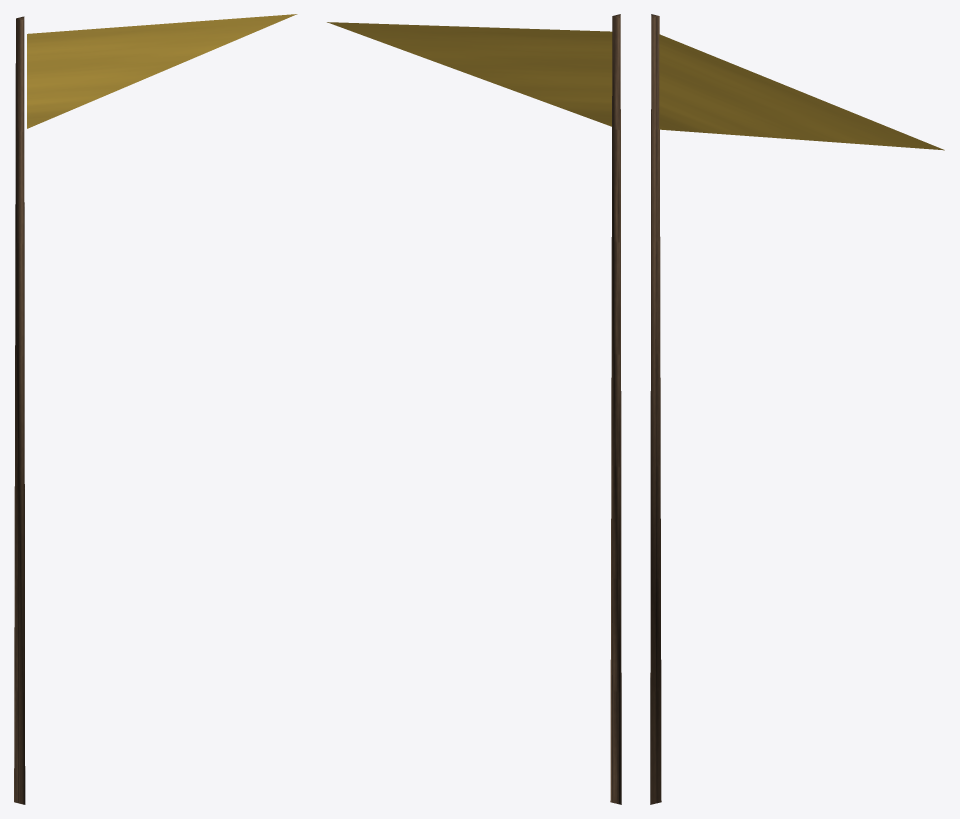
Rendered from Pennant_Pole_1_LOD2.gltf.
3 renders of one model, left to right at view 1: azimuth 30°, elevation 25°; view 2: azimuth 150°, elevation 25°; view 3: azimuth 330°, elevation 25°, orthographic.
Visible parts, largest first — view 1: Pennant_Pole_1_LOD2; view 2: Pennant_Pole_1_LOD2; view 3: Pennant_Pole_1_LOD2.
Boxes of the visible parts, <box> form: Pennant_Pole_1_LOD2: <box>14,14,297,804</box>; Pennant_Pole_1_LOD2: <box>327,14,621,804</box>; Pennant_Pole_1_LOD2: <box>650,14,944,804</box>.
Size of the model in its own units: 2.7 by 7 by 0.1756.
Materials: 2 (2 with a texture image).
